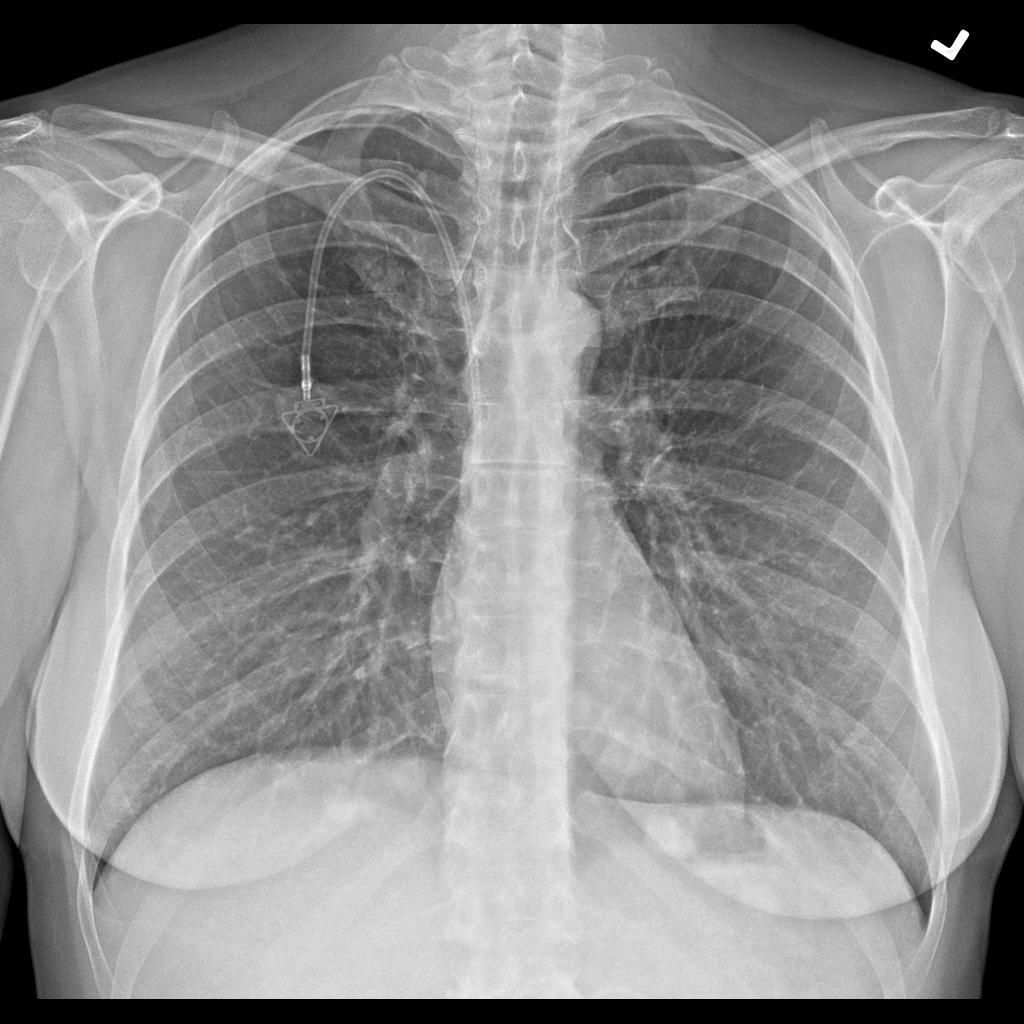Nodule: (315, 786, 375, 841), (384, 748, 430, 798)
